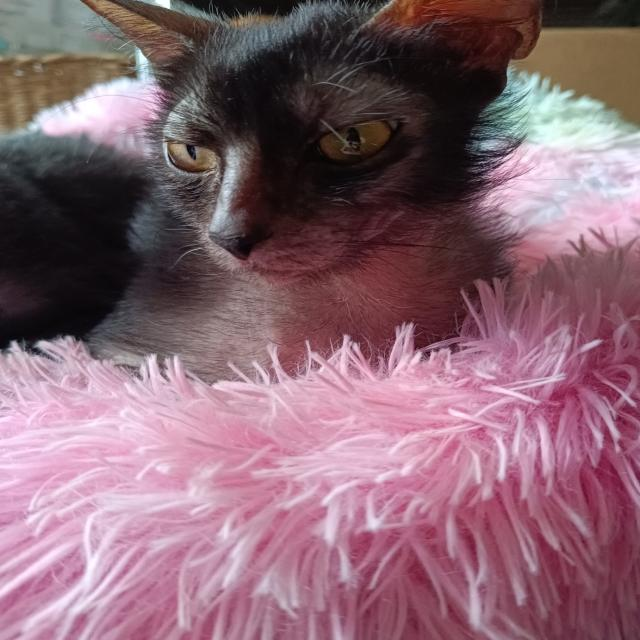Lykoi: (0, 0, 562, 397)
